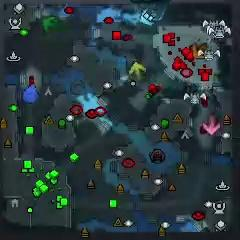p1: (23, 85, 40, 104)
x1: (201, 114, 221, 134)
x2: (129, 61, 147, 79)
x3: (138, 8, 155, 26)
x4: (43, 16, 59, 32)
x5: (192, 43, 208, 60)
